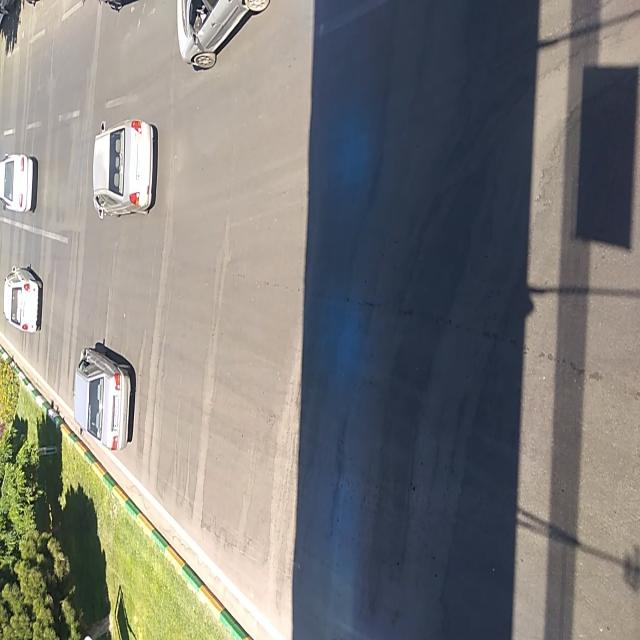car: (92, 118, 156, 222), (74, 343, 134, 450), (178, 1, 268, 70), (2, 263, 40, 333), (0, 154, 36, 210)
